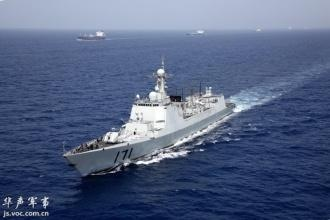warship: (56, 79, 235, 173)
